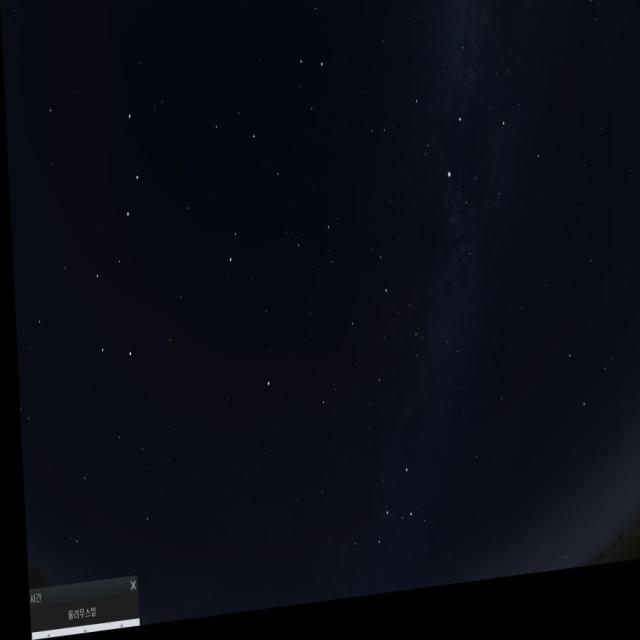cassiopeia: (331, 456, 430, 578)
cygnus: (403, 0, 511, 210)
ursa_major: (70, 99, 162, 377)
